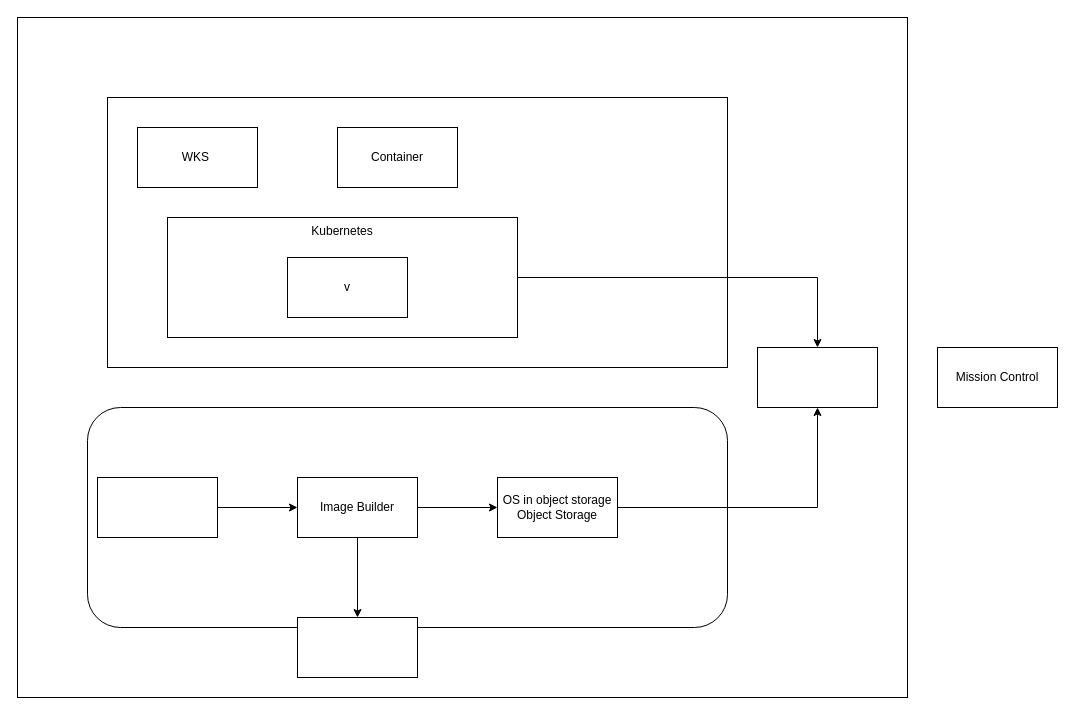
This 1075x715 diagram has some shape labels left out. The shapes that lost their labels are listed below. From the top down, each one's centre as x and y in pixels, then its label:
At point (817, 377): "Valdiation".
At point (157, 507): "COntent bastion".
At point (357, 647): "Podman Congure Systemd propriatory".
